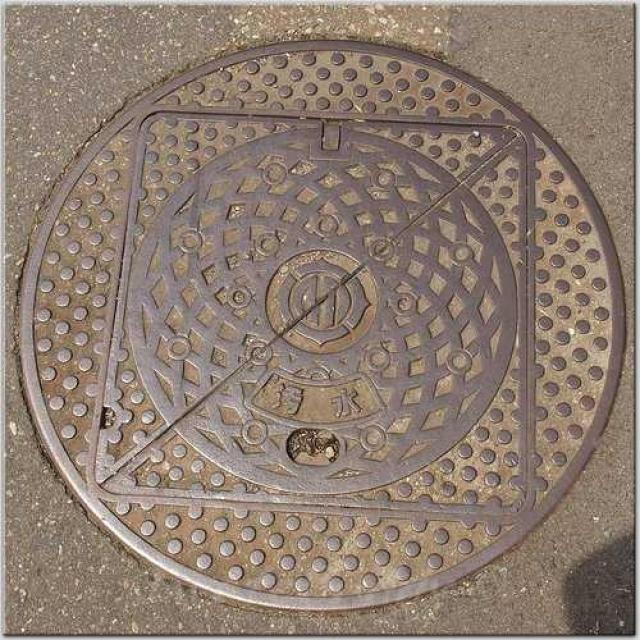manhole: (126, 122, 516, 493)
